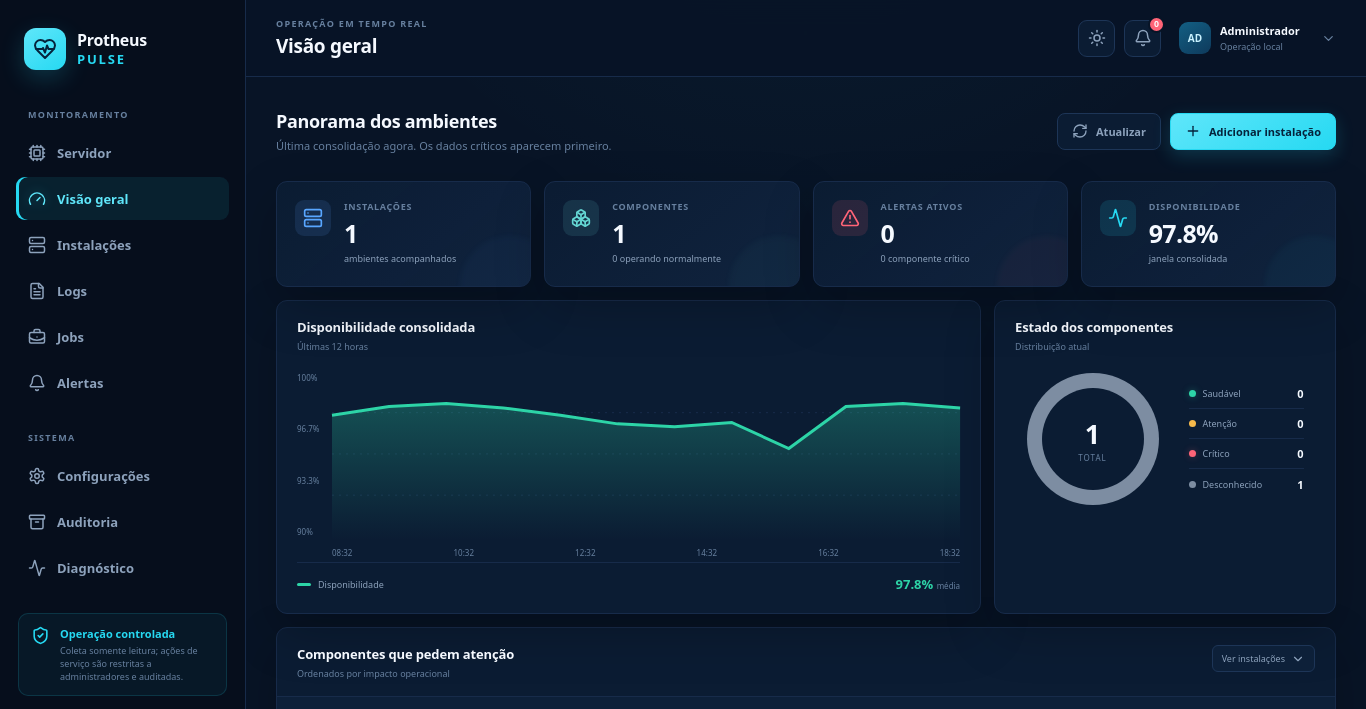
Scenario: App › desabilita parar e reiniciar quando o serviço está parado
expect the heading "Panorama dos ambientes" is shown: met, box [276,109,497,133]
Click the button "Instalações" at {"x": 122, "y": 244}, box [16,223,229,266]
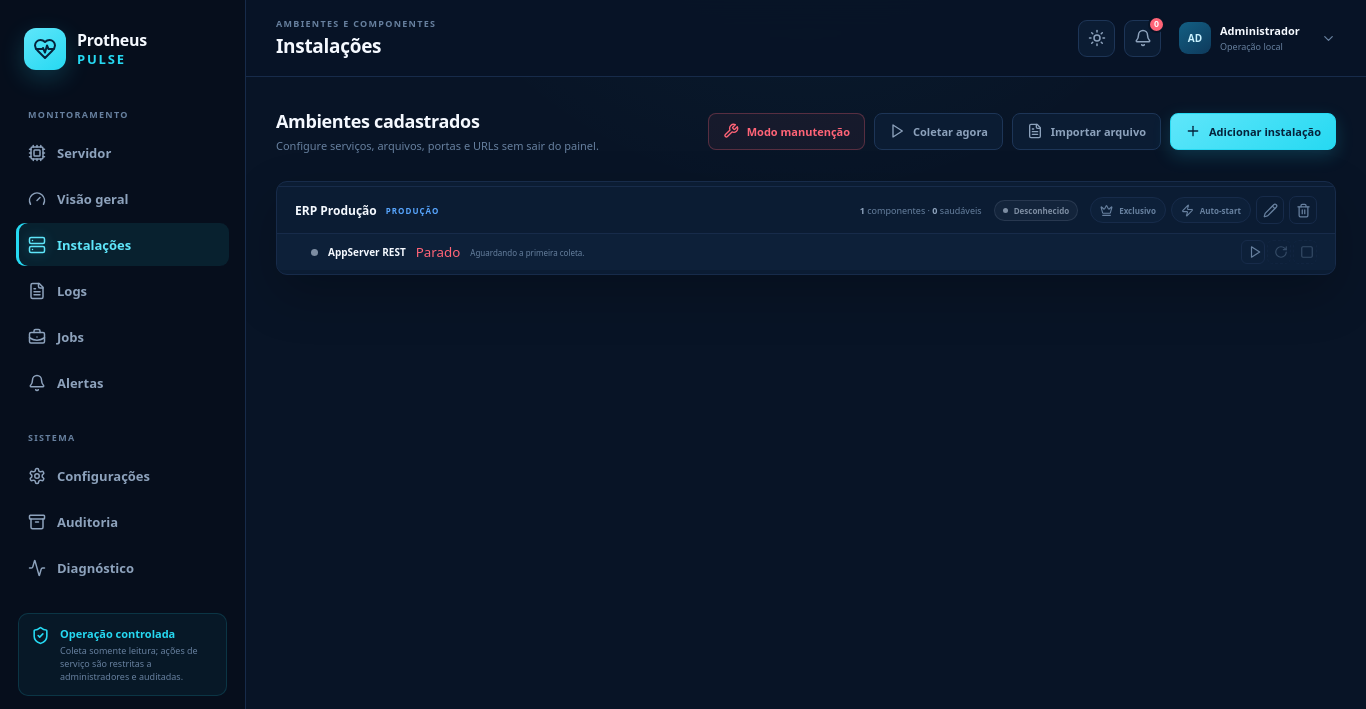
expect the button named "Iniciar serviço de AppServer REST" is enabled: met, box [1241,240,1265,264]
expect the button named "Parar serviço de AppServer REST" is disabled: met, box [1293,240,1317,264]
expect the button named "Reiniciar serviço de AppServer REST" is disabled: met, box [1267,240,1291,264]
